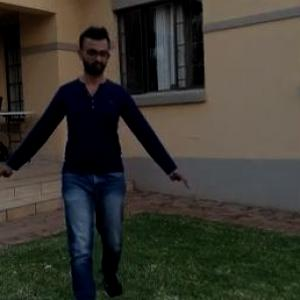land: (0, 18, 189, 299)
